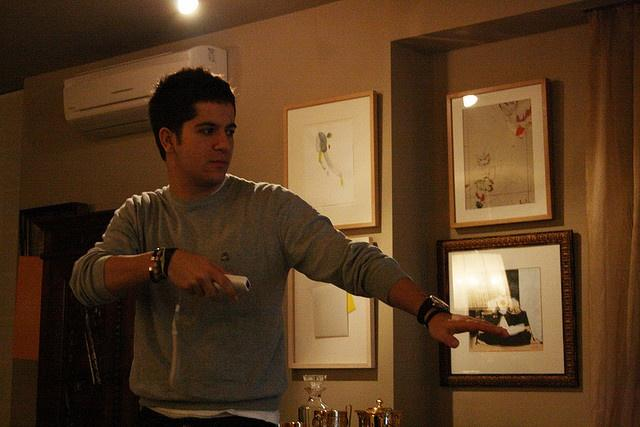AC: (60, 40, 229, 142)
